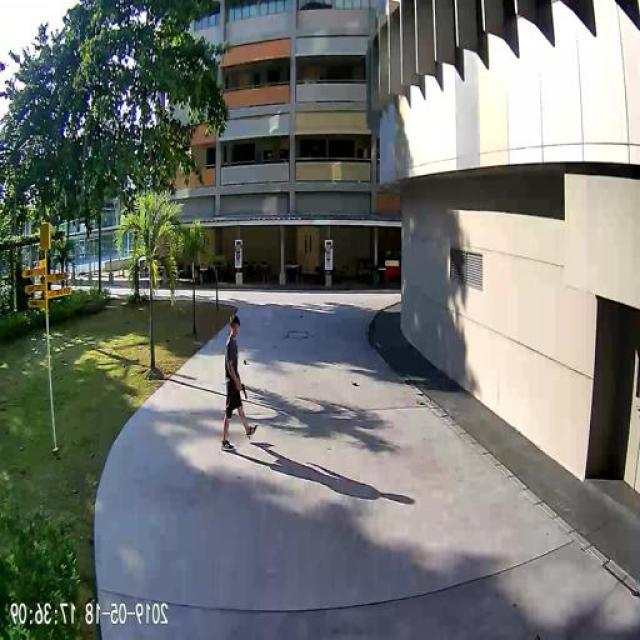Gun: (242, 380, 250, 399)
